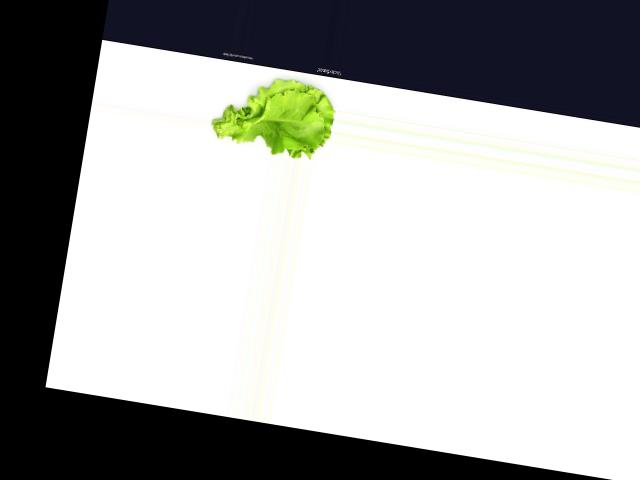lettuce: (210, 62, 339, 164)
